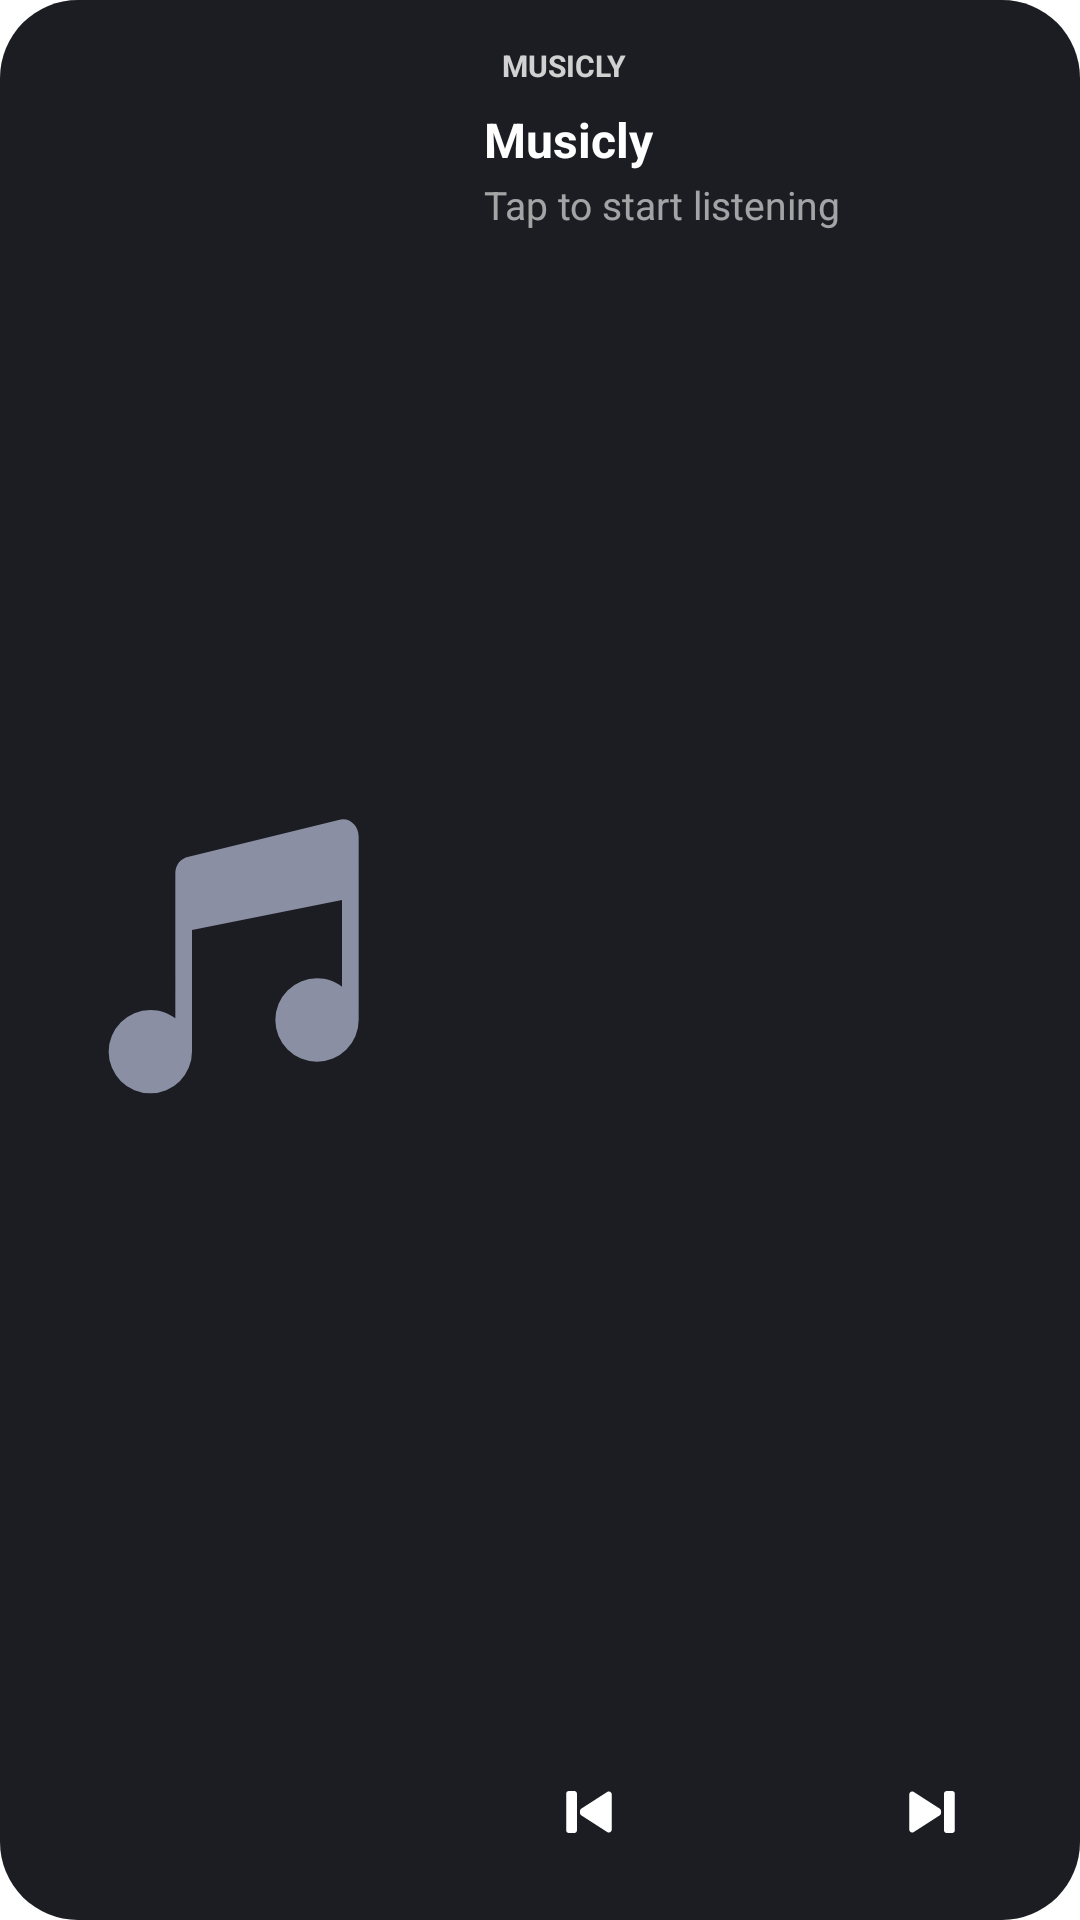

Named icons in this screenshot (1080×1920) and their bounding boxes, [left=x1, top=y1, right=x2, bottom=y2]:
Next song: [left=909, top=1791, right=955, bottom=1833]
Previous song: [left=566, top=1791, right=612, bottom=1833]
